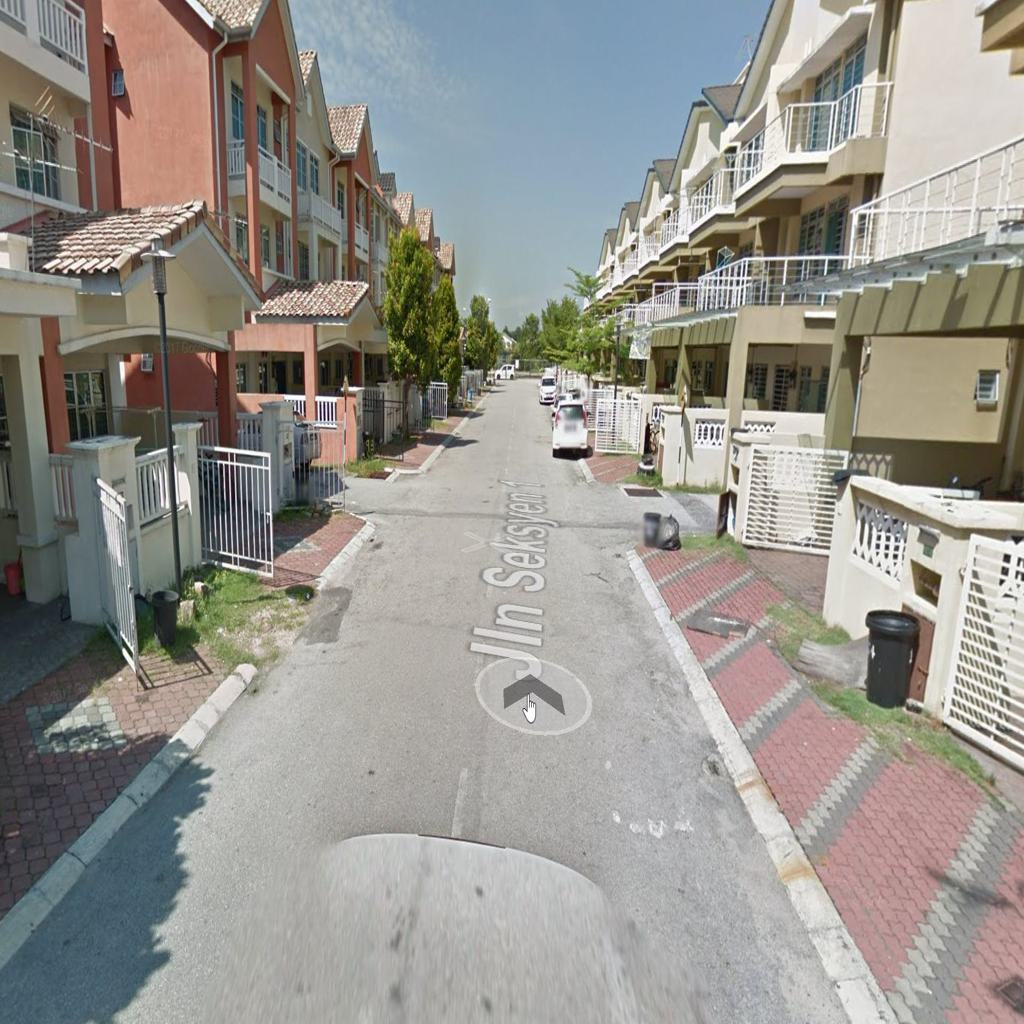Junction: (570, 444, 716, 565), (308, 436, 433, 559)
